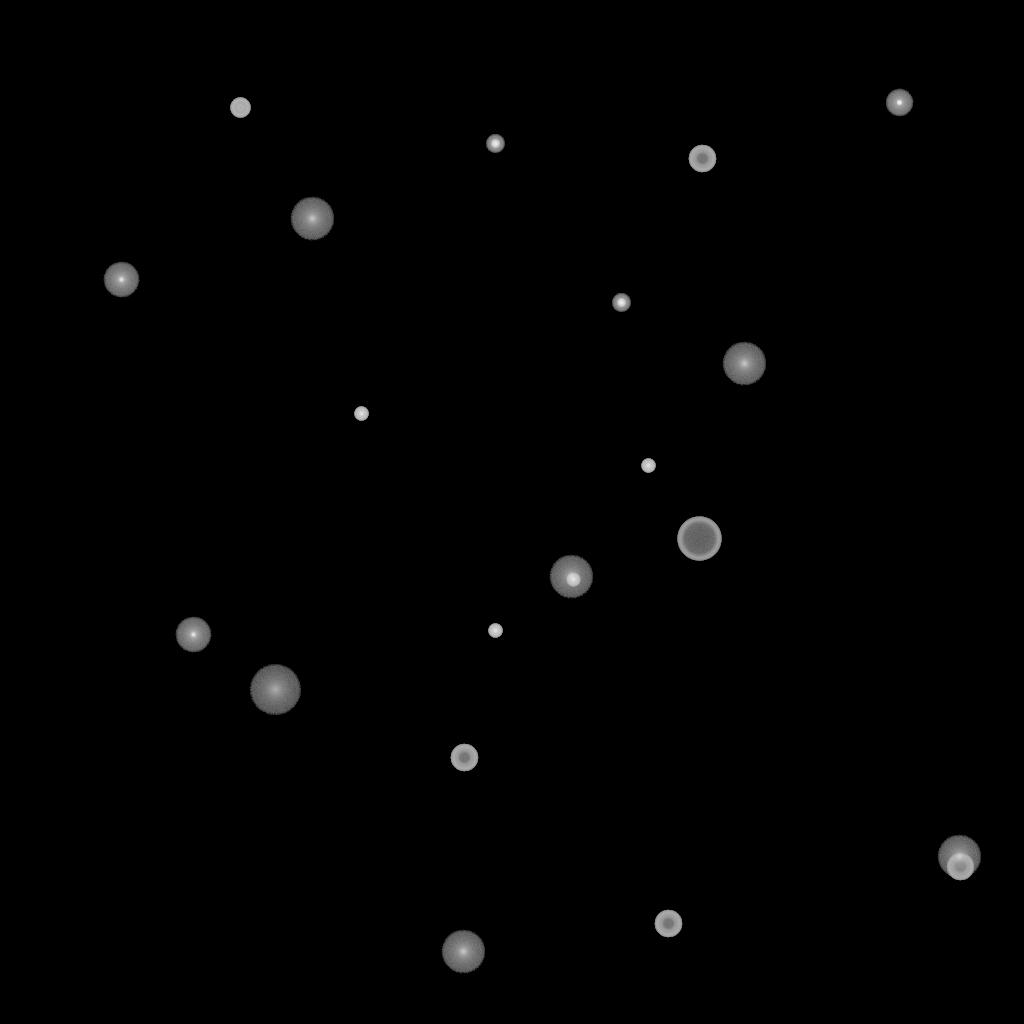depth:-10: (885, 89, 913, 117)
depth:-20: (612, 294, 630, 312), (486, 135, 504, 153)
depth:-30: (354, 407, 368, 421), (641, 459, 655, 473), (488, 624, 502, 638), (566, 573, 580, 587)
depth:-40: (230, 98, 250, 118)
depth:-50: (688, 145, 716, 173), (450, 744, 478, 772), (946, 853, 974, 881), (654, 910, 682, 938)
depth:-70: (677, 517, 721, 561)
depth:0: (103, 262, 139, 298), (175, 617, 211, 653)
depth:10: (290, 197, 334, 241), (722, 342, 766, 386), (441, 930, 485, 974), (549, 555, 593, 599), (937, 835, 981, 879)
depth:20: (249, 665, 301, 715)
